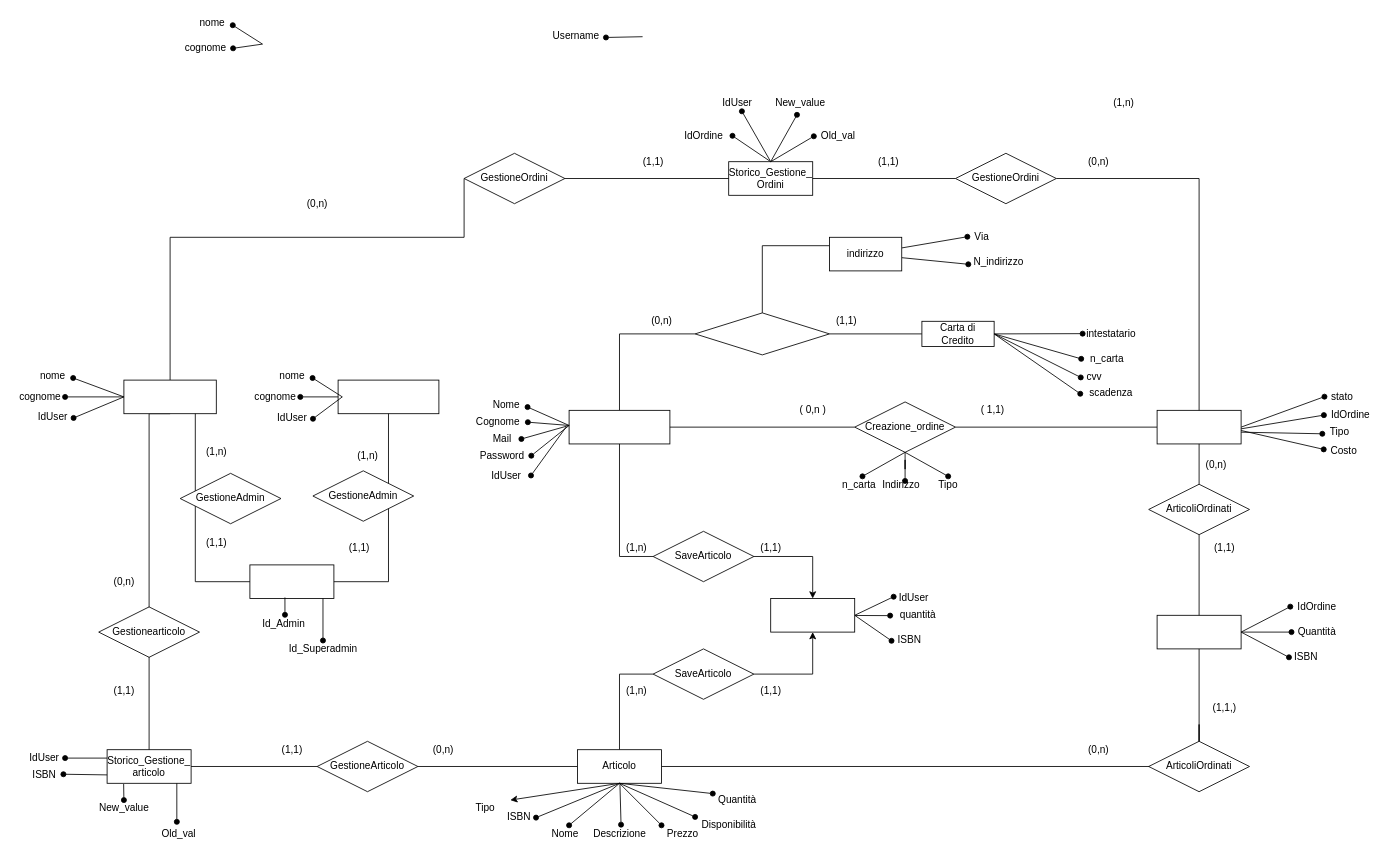
This 1389x856 diagram has some shape labels left out. The centre of each missing label's shape, as x and y in pixels:
"Admin" goes at (x=169, y=396).
"Carrello" goes at (x=812, y=615).
"Cliente" goes at (x=619, y=427).
"DatiCliente" goes at (x=762, y=333).
"Ordine" goes at (x=1198, y=427).
"Preparazione ordine" goes at (x=1198, y=631).
"Storico_Gestione _Admin" goes at (x=291, y=581).
"superadmin" goes at (x=388, y=396).
